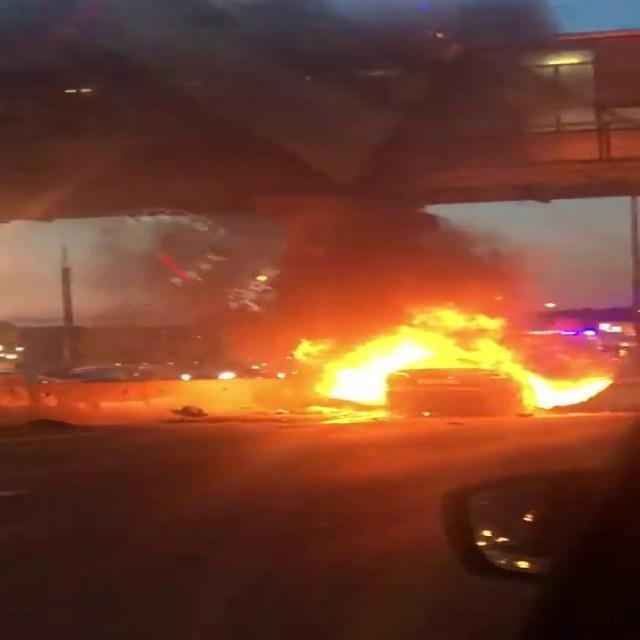Fire: (292, 298, 624, 428)
Smoke: (1, 0, 622, 239)
